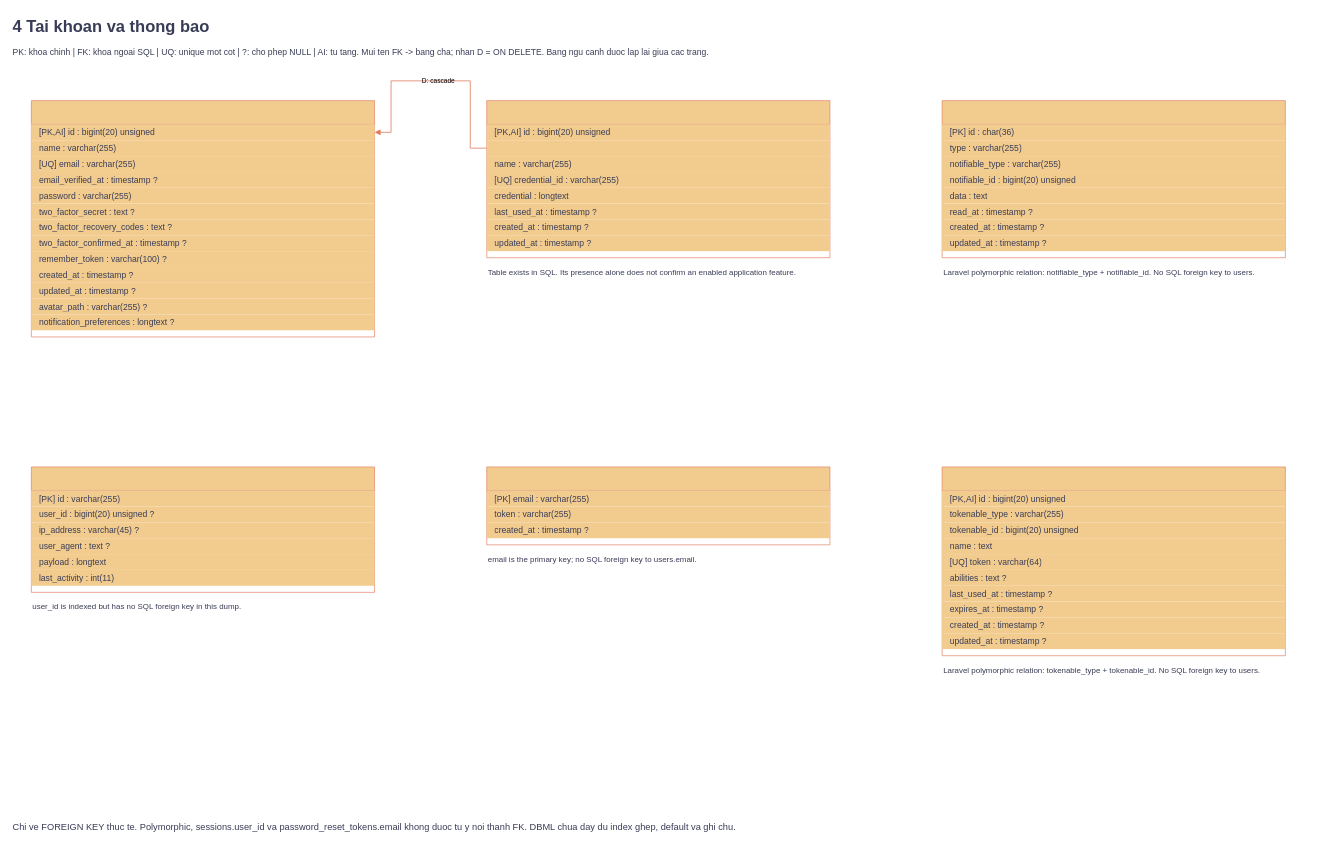
Image size: 1329x857. Some labels were removed from this diagram. Each missing label, with the box of its shape:
[FK] user_id : bigint(20) unsigned: (486, 140, 830, 156)
notifications: (941, 100, 1285, 258)
passkeys: (486, 100, 830, 258)
password_reset_tokens: (486, 466, 830, 545)
personal_access_tokens: (941, 466, 1285, 656)
sessions: (31, 466, 375, 592)
users: (31, 100, 375, 337)
